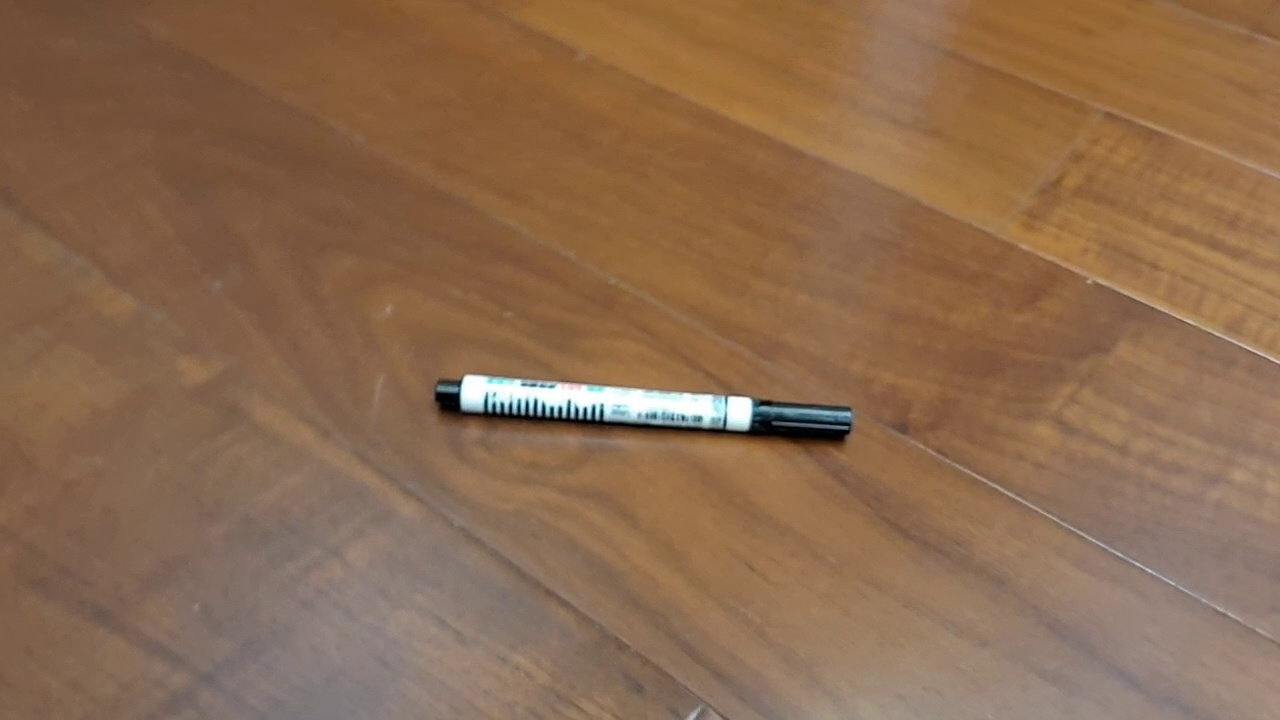pen: (434, 373, 854, 441)
